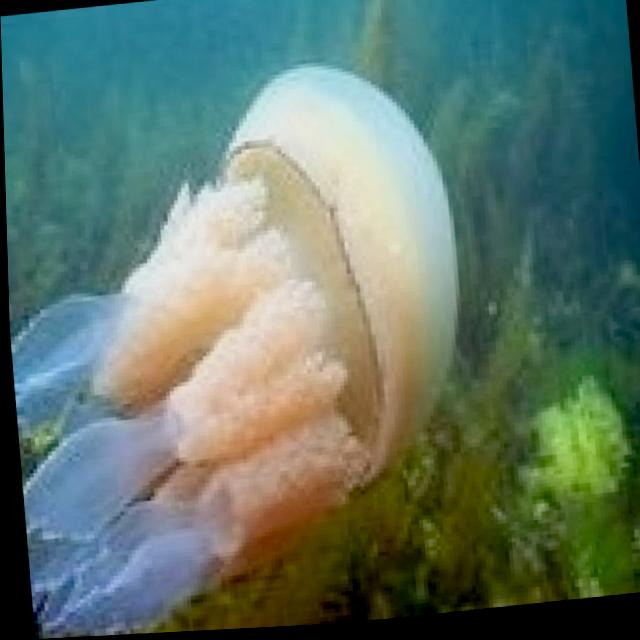Box-jellyfish: (2, 49, 481, 640)
